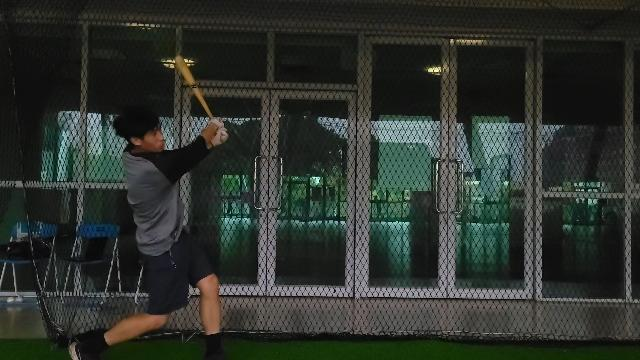bat: (174, 55, 213, 119)
